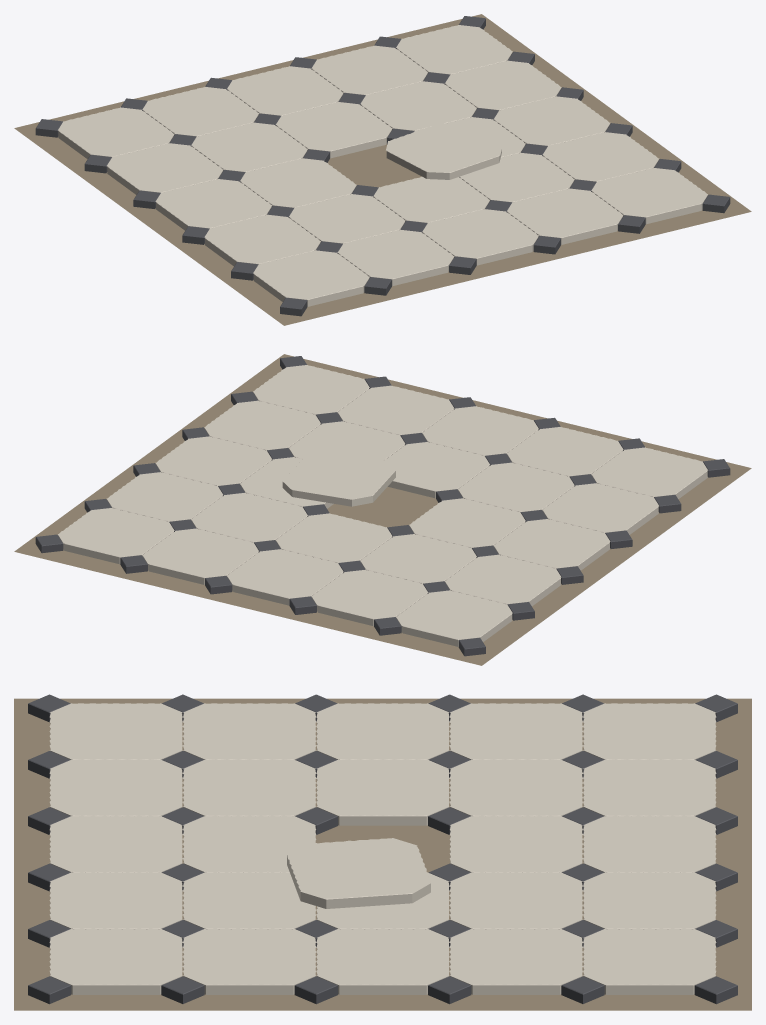
The model's file is terilgan.glb.
The picture shows the model from 3 angles, top to bottom: view 1: azimuth 30°, elevation 25°; view 2: azimuth 150°, elevation 25°; view 3: azimuth 270°, elevation 25°; orthographic projection. The views are drawn at different scales.
Parts seen in each view (by area): view 1: qum, t.012, t, t.004, t.001, t.002, t.003, t.017, t.015, t.020, t.005, t.010 (+14 smaller); view 2: qum, t.012, t.020, t.024, t.021, t.022, t.023, t, t.005, t.015, t.010, t.007 (+14 smaller); view 3: qum, t.012, t.004, t.024, t.009, t.011, t.019, t.014, t.001, t.021, t.003, t.023 (+32 smaller).
Boxes of the visible parts, x1,y1,x2,y2 form: qum: (14, 14, 751, 325); t.012: (386, 123, 502, 179); t: (253, 250, 369, 306); t.004: (591, 168, 707, 224); t.001: (337, 229, 454, 286); t.002: (422, 209, 538, 265); t.003: (507, 188, 623, 244); t.017: (276, 102, 392, 158); t.015: (107, 143, 223, 194); t.020: (58, 107, 174, 158); t.005: (204, 214, 320, 266); t.010: (155, 179, 271, 230); qum: (14, 354, 751, 665); t.012: (282, 451, 395, 506); t.020: (396, 590, 512, 646); t.024: (58, 508, 174, 564); t.021: (311, 569, 428, 626); t.022: (227, 549, 343, 605); t.023: (142, 528, 258, 584); t: (591, 447, 707, 498); t.005: (542, 483, 658, 534); t.015: (445, 554, 561, 606); t.010: (494, 519, 610, 570); t.007: (384, 442, 489, 498); qum: (14, 698, 751, 1010); t.012: (286, 838, 431, 908); t.004: (49, 928, 182, 994); t.024: (583, 928, 716, 994); t.009: (183, 928, 316, 994); t.011: (316, 759, 449, 825); t.019: (449, 928, 582, 994); t.014: (316, 928, 449, 994); t.001: (49, 759, 182, 816); t.021: (583, 759, 716, 816); t.003: (49, 872, 182, 929); t.023: (583, 872, 716, 929).
Size of the model in its own units: 1.66 by 0.052 by 1.66.
